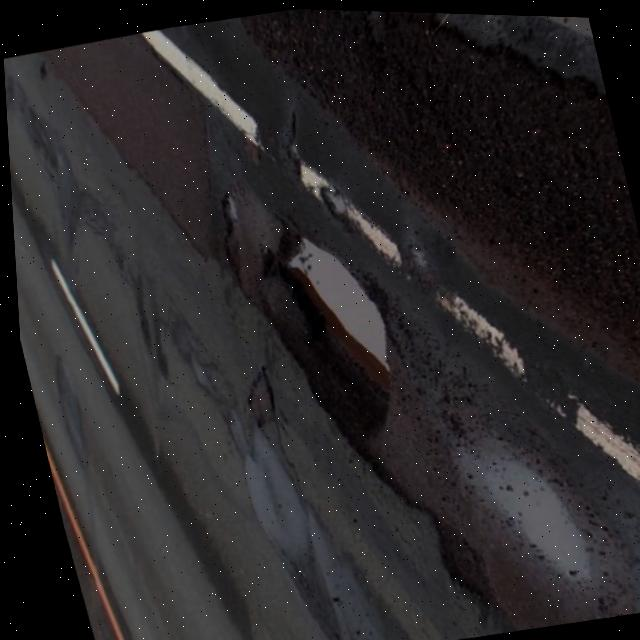Pothole: (250, 215, 417, 448), (416, 507, 495, 606), (201, 186, 239, 235)
